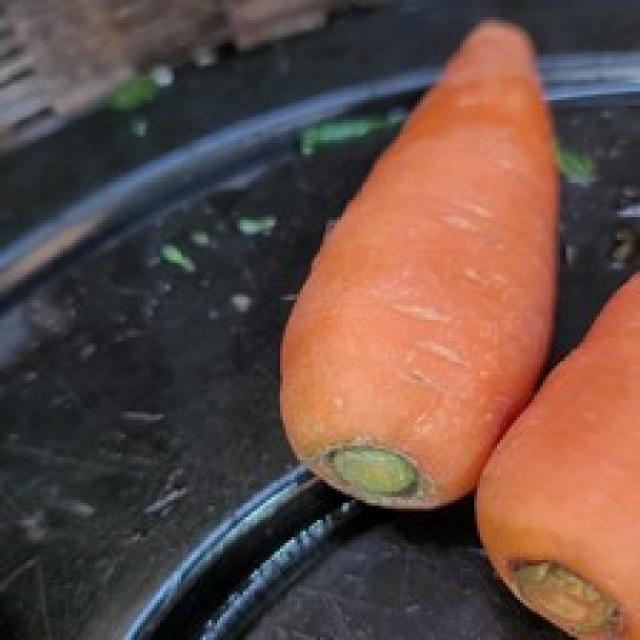Fresh_Carrot: (275, 23, 563, 498), (480, 265, 640, 627)
